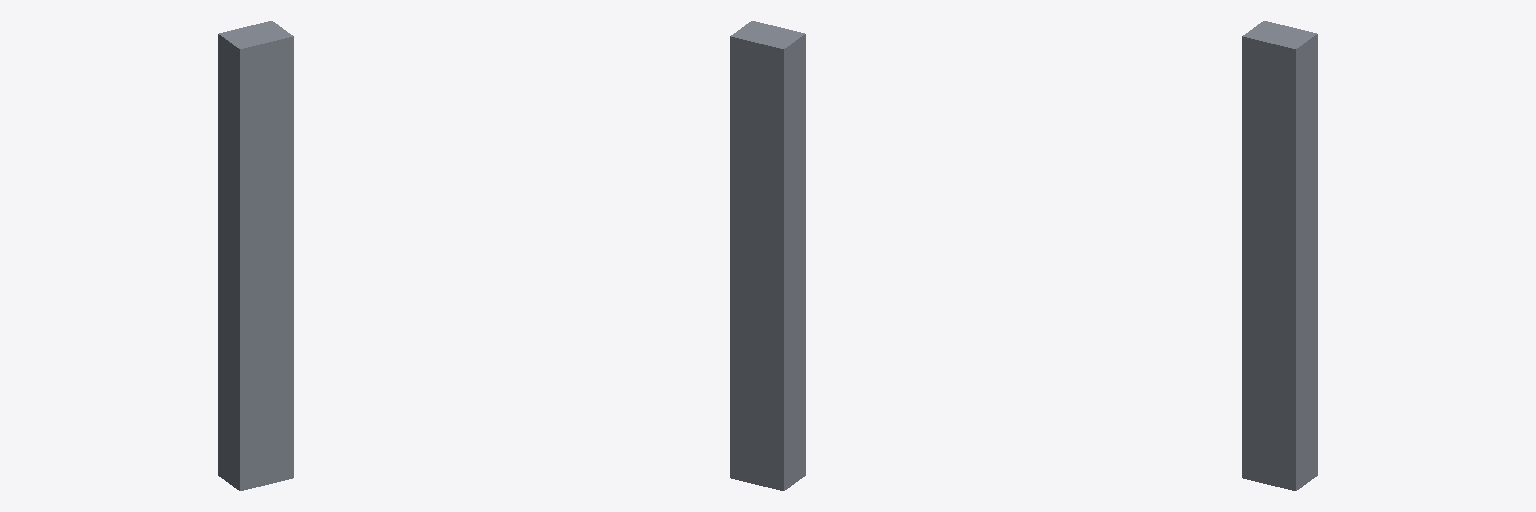
URDF robot description (artmanip_knife_000):
<?xml version='1.0' encoding='utf-8'?>
<robot name="artmanip_knife_000"><link name="link_0"><inertial><mass value="0.029805841603367373" /><inertia ixx="4.423382786254152e-05" iyy="4.45980214744401e-05" izz="1.0601239056678817e-06" ixy="0" ixz="0" iyz="0" /></inertial><visual><geometry><box size="0.01693278283175676 0.011836077535412704 0.13292364703876525" /></geometry><material name="link_0_color"><color rgba=".58 .60 .64 1" /></material></visual><collision><geometry><box size="0.01693278283175676 0.011836077535412704 0.13292364703876525" /></geometry></collision></link><link name="link_1"><inertial><mass value="0.00613633460440583" /><inertia ixx="4.6503887115507333e-07" iyy="5.113612170338192e-07" izz="5.5949897528017944e-08" ixy="0" ixz="0" iyz="0" /></inertial><visual><geometry><mesh filename="slider-shoulder.obj" scale="1 1.02272 1" /></geometry><material name="link_1_color"><color rgba=".12 .13 .15 1" /></material></visual><collision><geometry><mesh filename="slider-shoulder.obj" scale="1 1.02272 1" /></geometry></collision></link><joint name="slider" type="prismatic"><parent link="link_0" /><child link="link_1" /><origin xyz="0.0006213284062940357 0.00745212241880781 0.009458847523220662" /><axis xyz="0 0 1" /><limit lower="-0.03267458688196273" upper="0.017325413118037272" effort="100" velocity="1" /><dynamics damping="1000" friction="0.001" /></joint></robot>

--- Render facts (derived) ---
3 views of the same robot in one strip: view 1: azimuth 30°, elevation 25°; view 2: azimuth 150°, elevation 25°; view 3: azimuth 330°, elevation 25° (orthographic).
Model artmanip_knife_000 with 2 links and 1 joints (1 prismatic), rooted at link_0, posed all joints at 0.
Links seen in each view (by area): view 1: link_0; view 2: link_0; view 3: link_0.
Boxes of the visible links, x1,y1,x2,y2 form: link_0: (218, 21, 293, 490); link_0: (730, 21, 805, 490); link_0: (1242, 21, 1317, 490).
Bounding box of the posed robot: 0.0169 × 0.0118 × 0.1329 m (x, y, z).
Meshes: 1 distinct files referenced, 0 mesh visuals loaded (none loaded); not drawn: 1 (reference not matched to a file when rendering).
